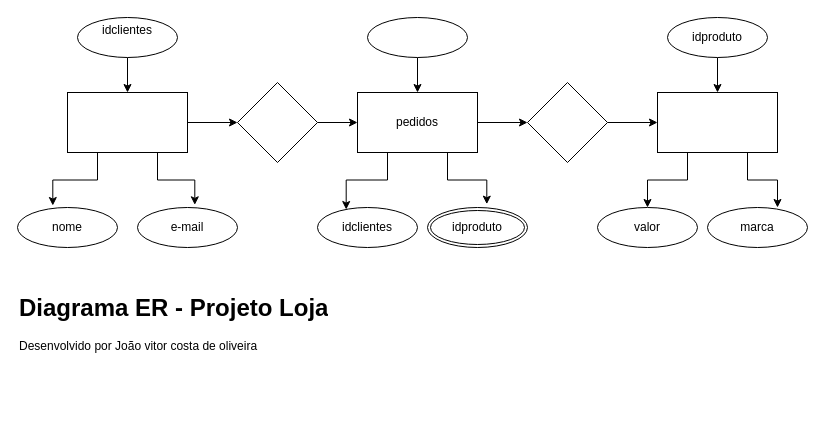
Image size: 825x428. Some labels were removed from this diagram. The centre of each missing label's shape, as x and y in pixels:
"clientes" goes at point 127,122.
"idpedido" goes at point 417,37.
"produtos" goes at point 717,122.
